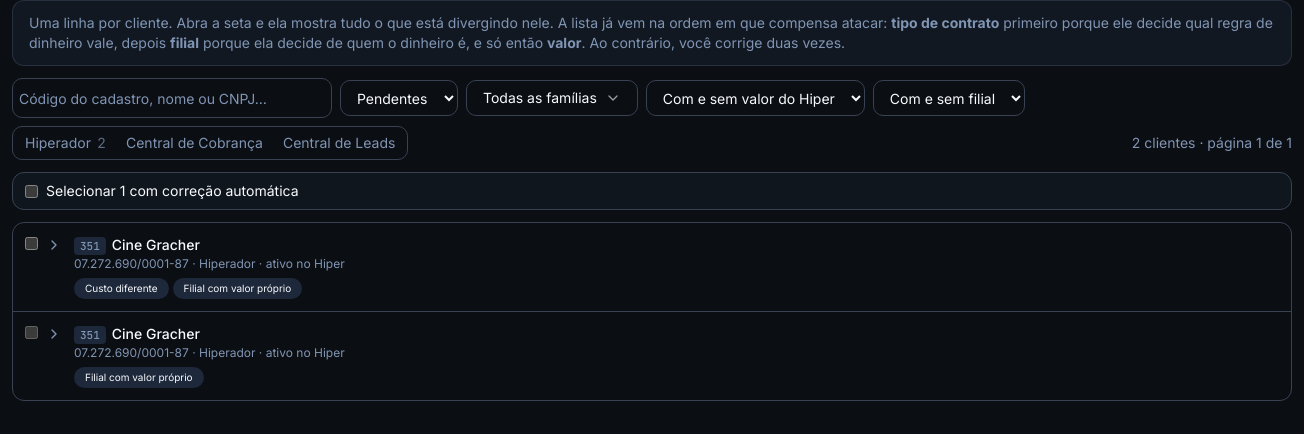
Test: abas da integração Hiper › seleciona em lote só quem tem correção automática
Expected: the 2nd checkbox is enabled, [25,237,38,250]
Expected: the checkbox named "Nada nesta linha pode ser gravado automaticamente" is disabled, [25,326,38,339]
Click the checkbox labelled "Selecionar 1 com correção automática" at (32, 191), box [25,184,38,198]
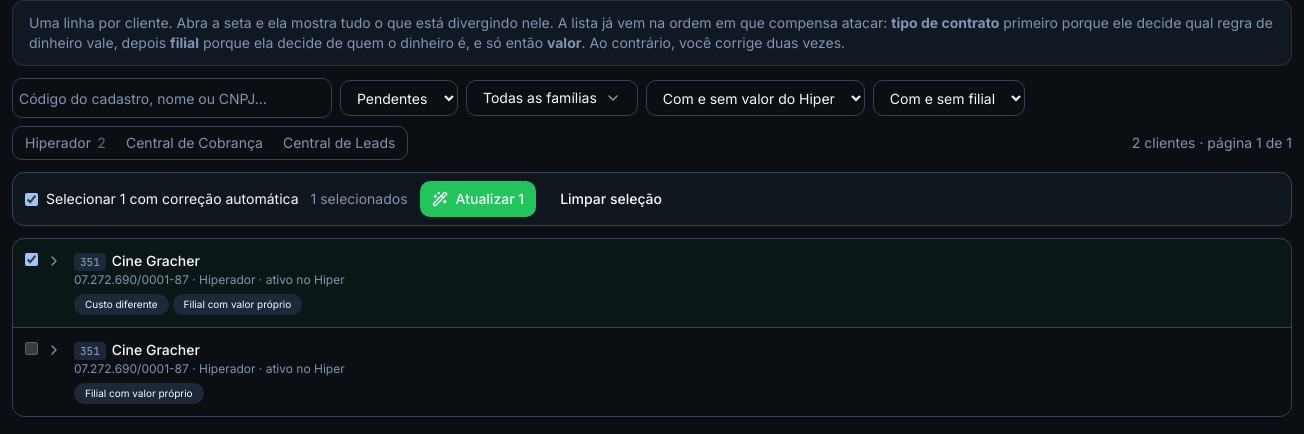
Expected: the text "Atualizar 1" is shown, [420,181,536,217]
